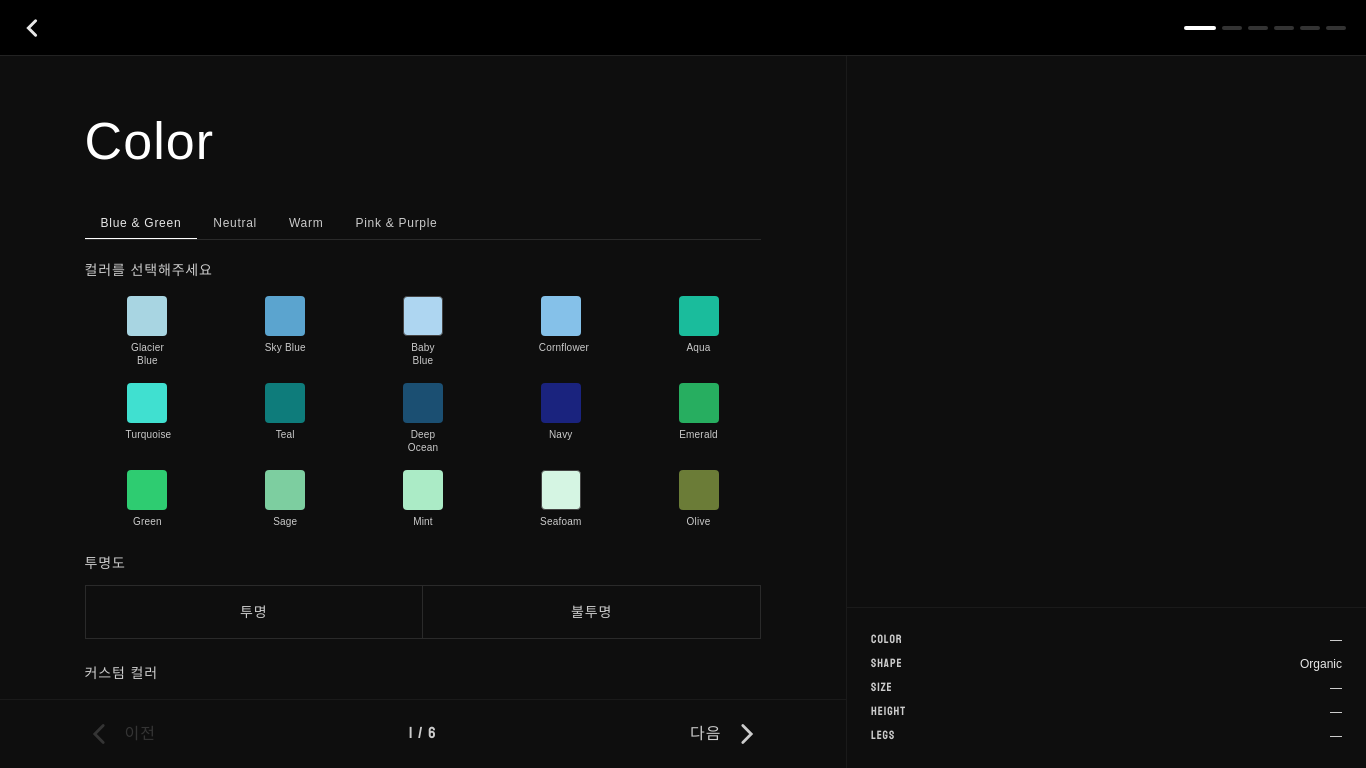
Test: CommissionClient › Wood 선택 시 Custom 카드가 나타나고, Stainless 선택 시 사라진다
Click the button "다음" at (726, 734), box [690,720,761,748]
Wait 200 ms
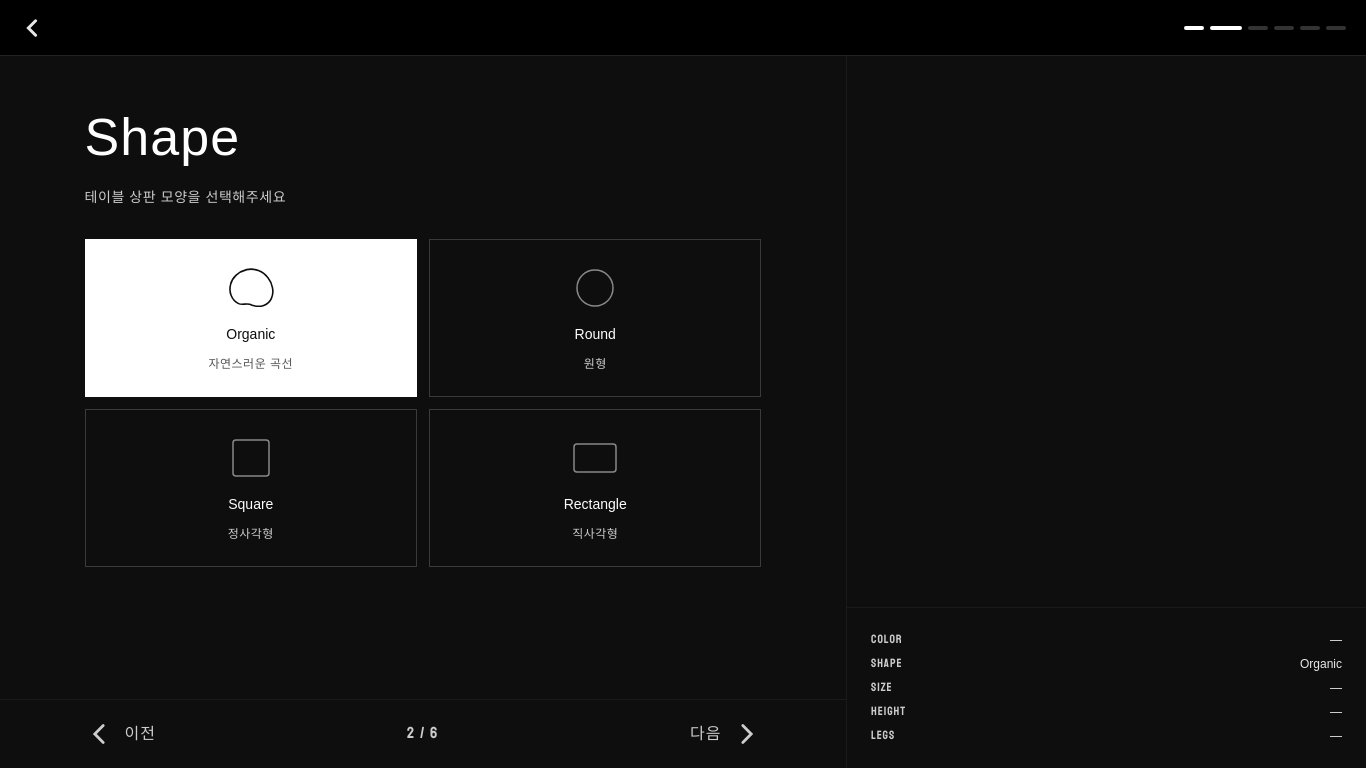
Click the button "다음" at (726, 734), box [690,720,761,748]
Wait 200 ms
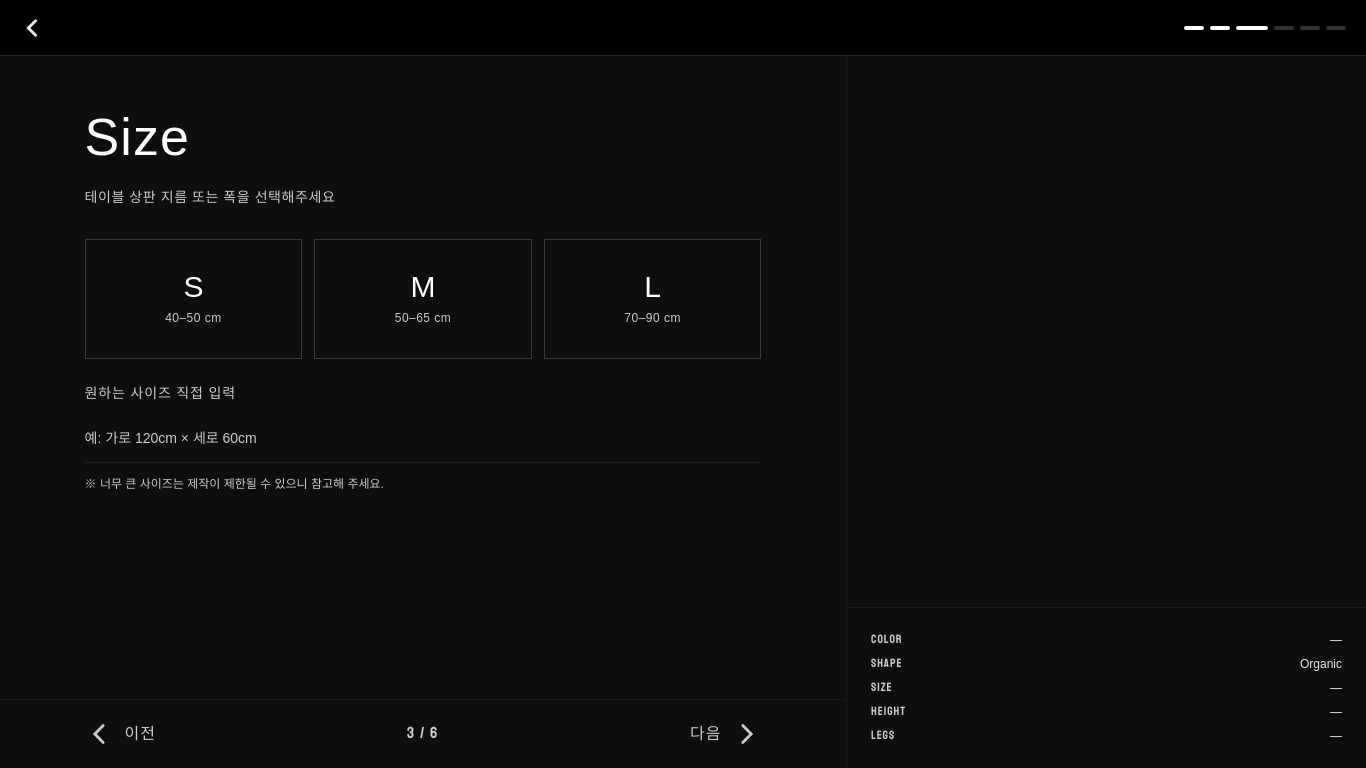
Click the button "다음" at (726, 734), box [690,720,761,748]
Wait 200 ms
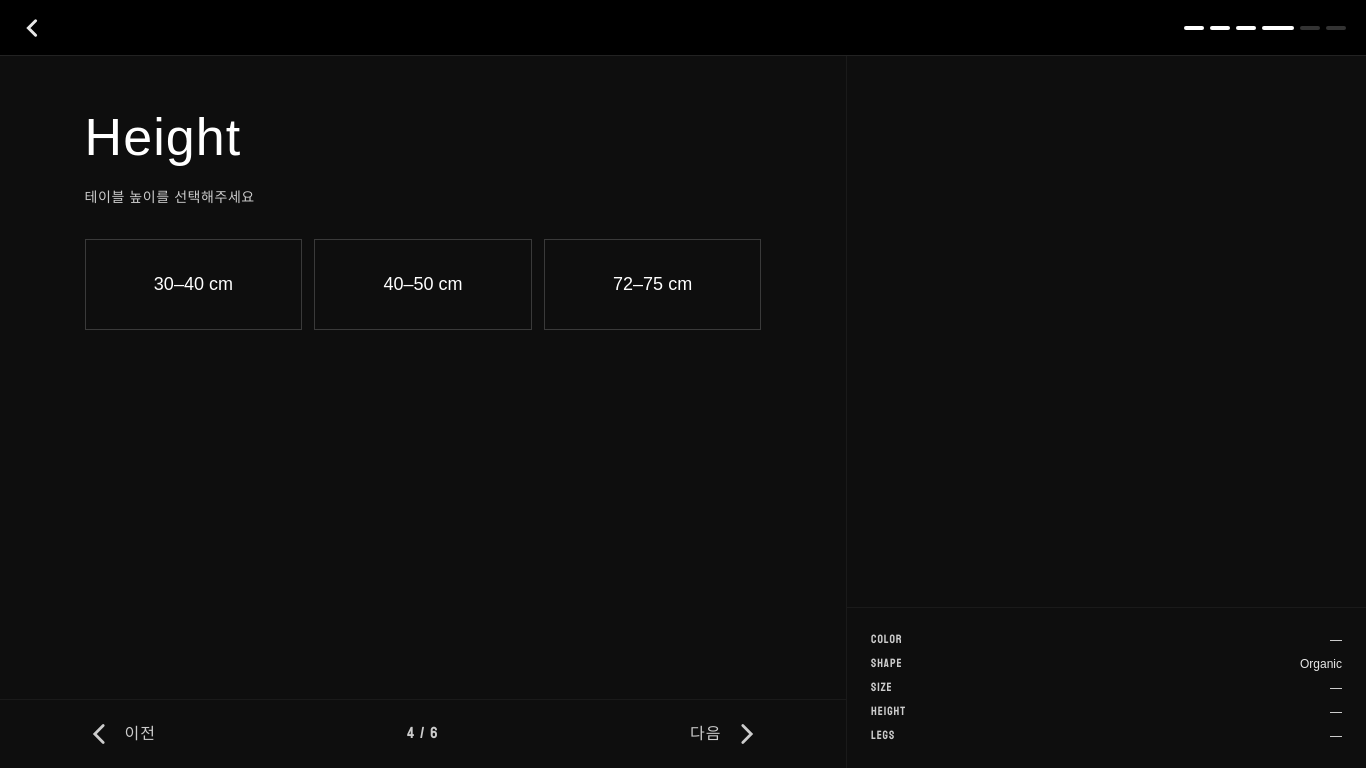
Click the button "다음" at (726, 734), box [690,720,761,748]
Wait 200 ms
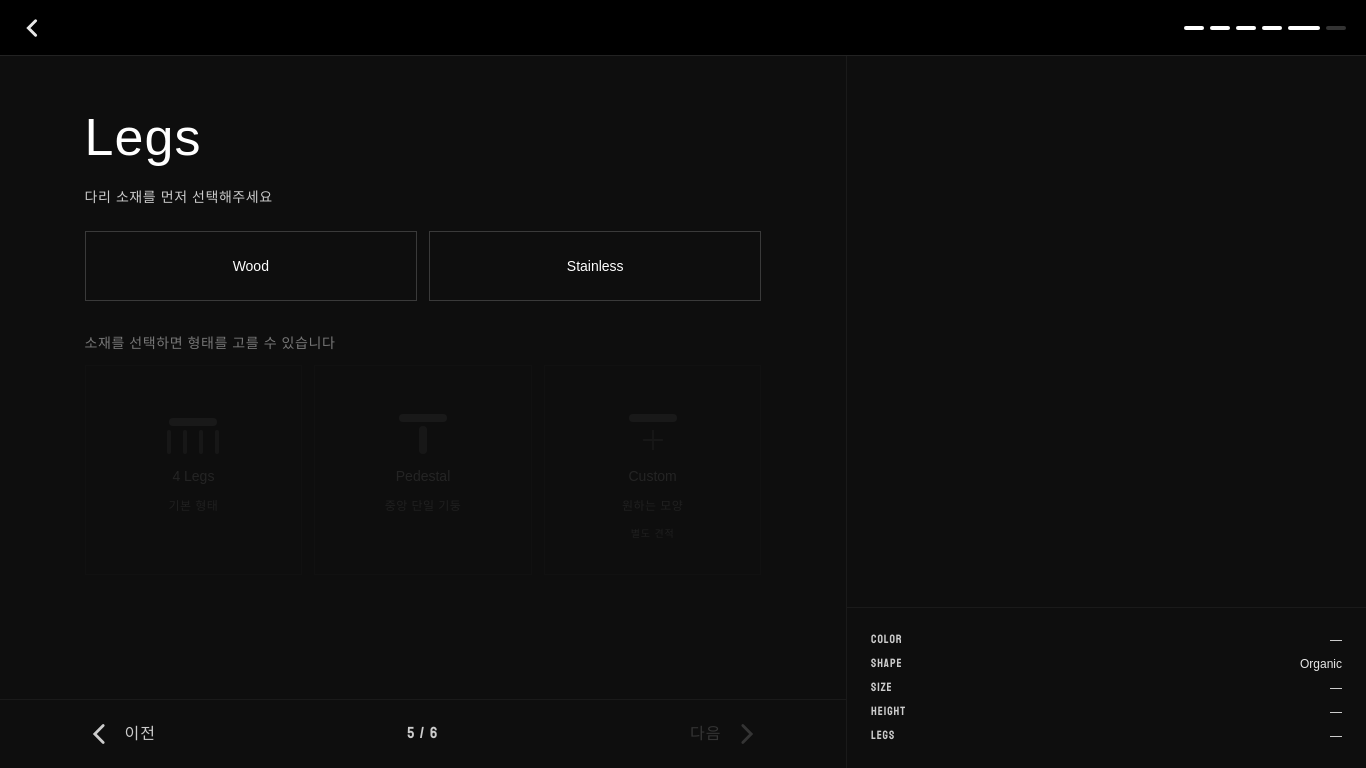
Click the button "Wood" at (251, 266), box [85,231,417,301]
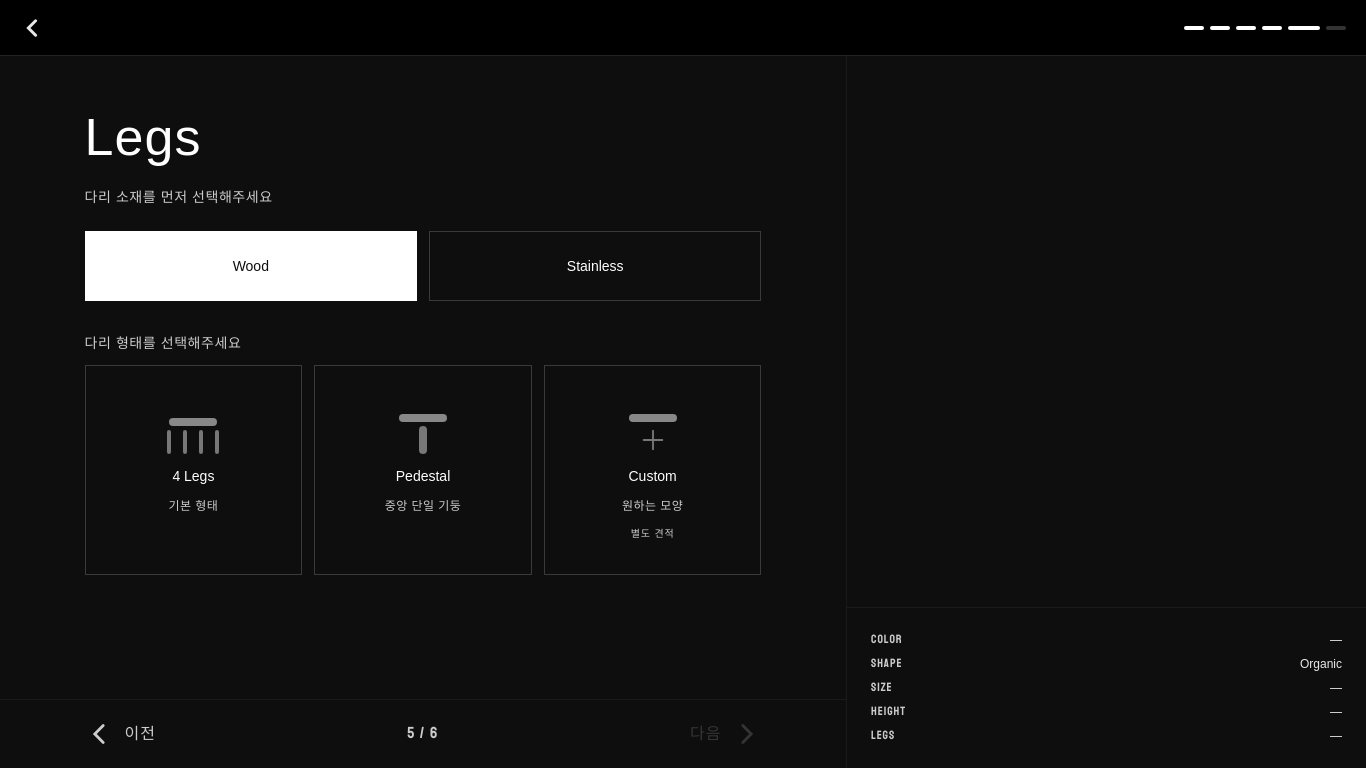
expect the text "별도 견적" is shown: met, box [631,526,674,542]
Click the button "Stainless" at (595, 266), box [429,231,761,301]
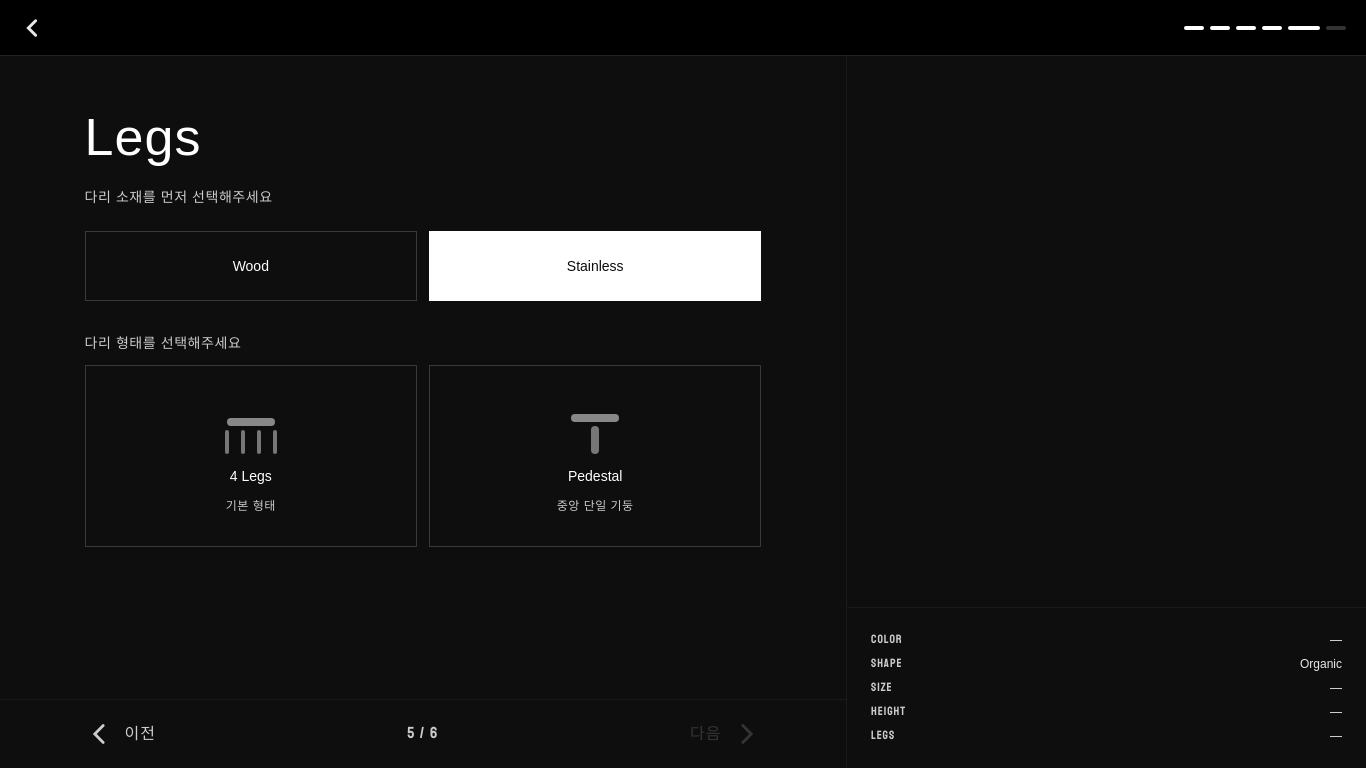
expect the button "별도 견적" is gone: met
